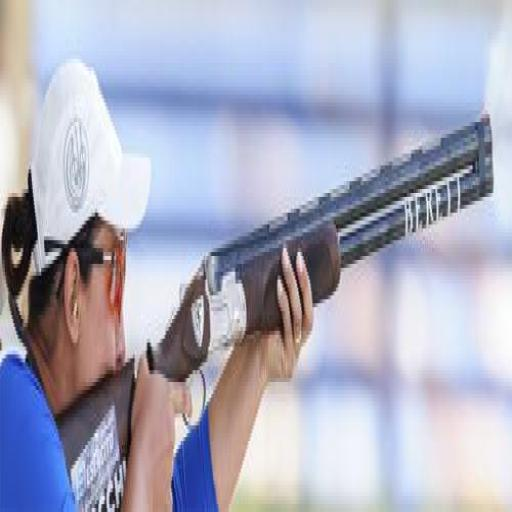shooting: (0, 55, 316, 508)
